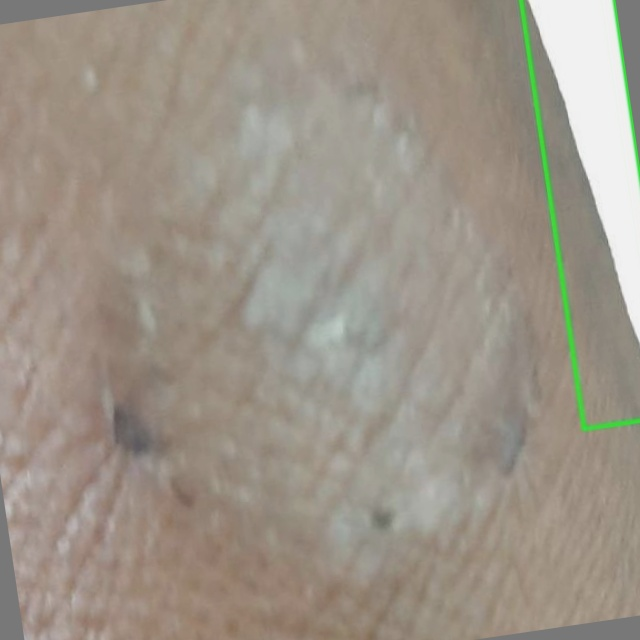Tinea Corporis: (520, 0, 639, 428)
